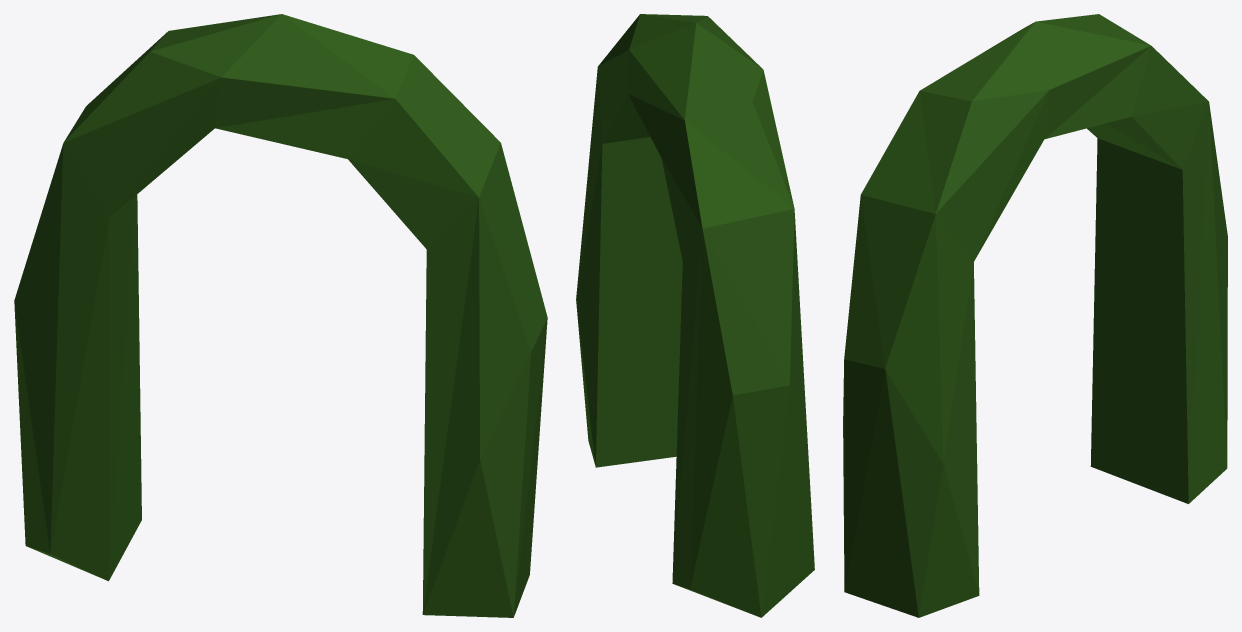
The model's file is GREEN ARK.fbx.
3 views of the same model, side by side, from view 1: azimuth 30°, elevation 25°; view 2: azimuth 150°, elevation 25°; view 3: azimuth 270°, elevation 25° (orthographic). The views are drawn at different scales.
Parts seen in each view (by area): view 1: GREEN_ARK; view 2: GREEN_ARK; view 3: GREEN_ARK.
Part boxes in pixels (x1,y1,x2,y2): GREEN_ARK: (14, 14, 547, 617); GREEN_ARK: (576, 14, 814, 617); GREEN_ARK: (843, 14, 1227, 617).
Bounding box in the file's own units: 166 × 239 × 162.
Materials: 1 (1 with a texture image).
